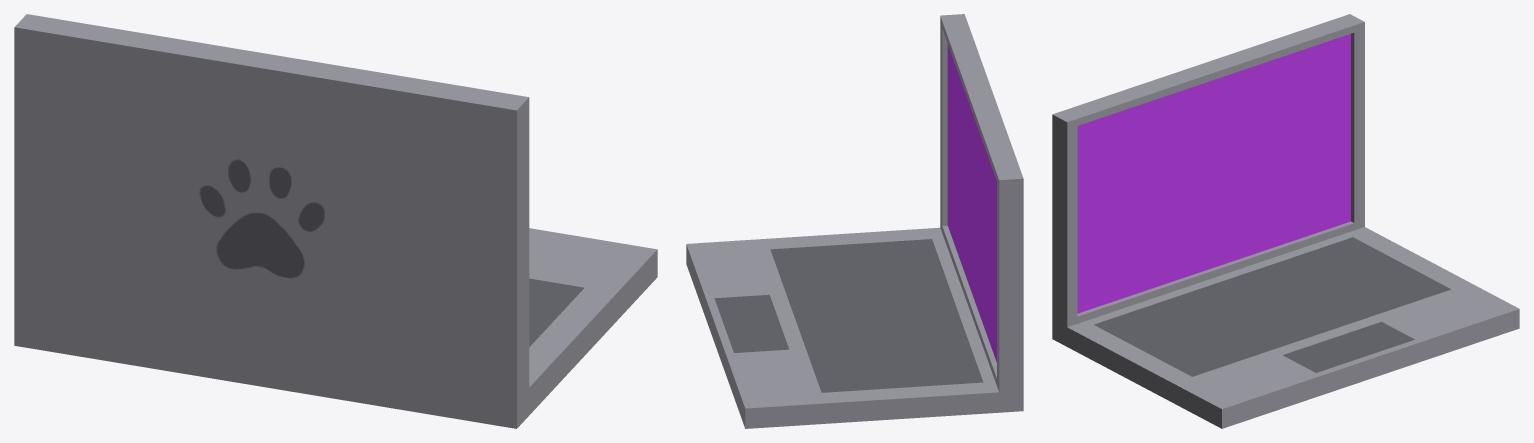
File: Laptop_2-WarRoom.glb
3 renders of one model, left to right at view 1: azimuth 30°, elevation 25°; view 2: azimuth 150°, elevation 25°; view 3: azimuth 270°, elevation 25°, orthographic. The views are drawn at different scales.
Parts seen in each view (by area): view 1: Laptop.001; view 2: Laptop.001; view 3: Laptop.001.
Part boxes in pixels (box(x1,y1,x2,y2)): Laptop.001: box(14, 14, 657, 428); Laptop.001: box(686, 14, 1023, 428); Laptop.001: box(1052, 14, 1519, 428).
Bounding box in the file's own units: 0.5325 × 0.2933 × 0.5528.
1 material, 1 textured.
